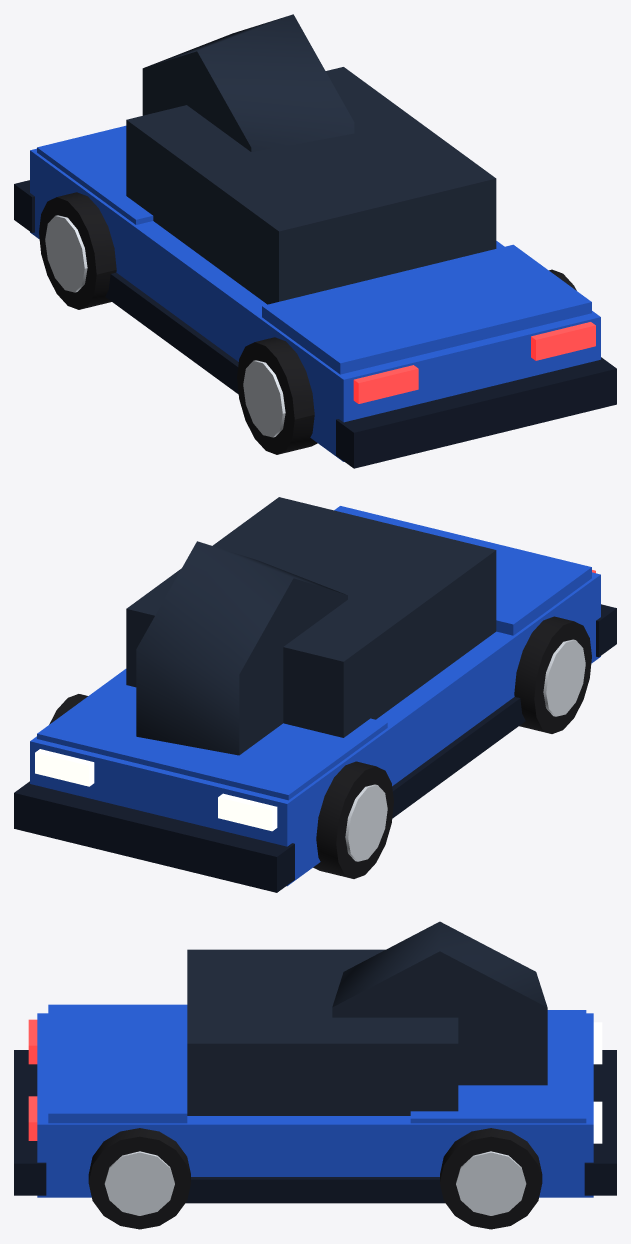
The model's file is car.glb.
3 renders of one model, top to bottom at view 1: azimuth 30°, elevation 25°; view 2: azimuth 150°, elevation 25°; view 3: azimuth 270°, elevation 25°, orthographic. The views are drawn at different scales.
Parts seen in each view (by area): view 1: Car_Cabin, Car_Body, Car_Trim, Car_Wheels, Car_Rims, Car_Taillights; view 2: Car_Cabin, Car_Body, Car_Trim, Car_Wheels, Car_Rims, Car_Headlights; view 3: Car_Cabin, Car_Body, Car_Trim, Car_Wheels, Car_Rims, Car_Taillights, Car_Headlights.
Boxes of the visible parts, box(x1,y1,x2,y2) form: Car_Cabin: box(126, 14, 496, 304); Car_Body: box(30, 125, 600, 461); Car_Trim: box(14, 180, 616, 468); Car_Wheels: box(39, 192, 576, 454); Car_Rims: box(45, 215, 285, 437); Car_Taillights: box(353, 322, 595, 403); Car_Cabin: box(126, 497, 496, 755); Car_Body: box(30, 506, 600, 886); Car_Trim: box(14, 604, 616, 892); Car_Wheels: box(49, 616, 591, 878); Car_Rims: box(345, 639, 585, 861); Car_Headlights: box(35, 749, 277, 831); Car_Cabin: box(187, 921, 547, 1115); Car_Body: box(37, 1004, 593, 1197); Car_Trim: box(14, 1050, 616, 1203); Car_Wheels: box(88, 1128, 542, 1229); Car_Rims: box(104, 1151, 526, 1215); Car_Taillights: box(28, 1019, 37, 1140); Car_Headlights: box(593, 1022, 602, 1143).
Size of the model in its own units: 2.12 by 1.77 by 4.12.
